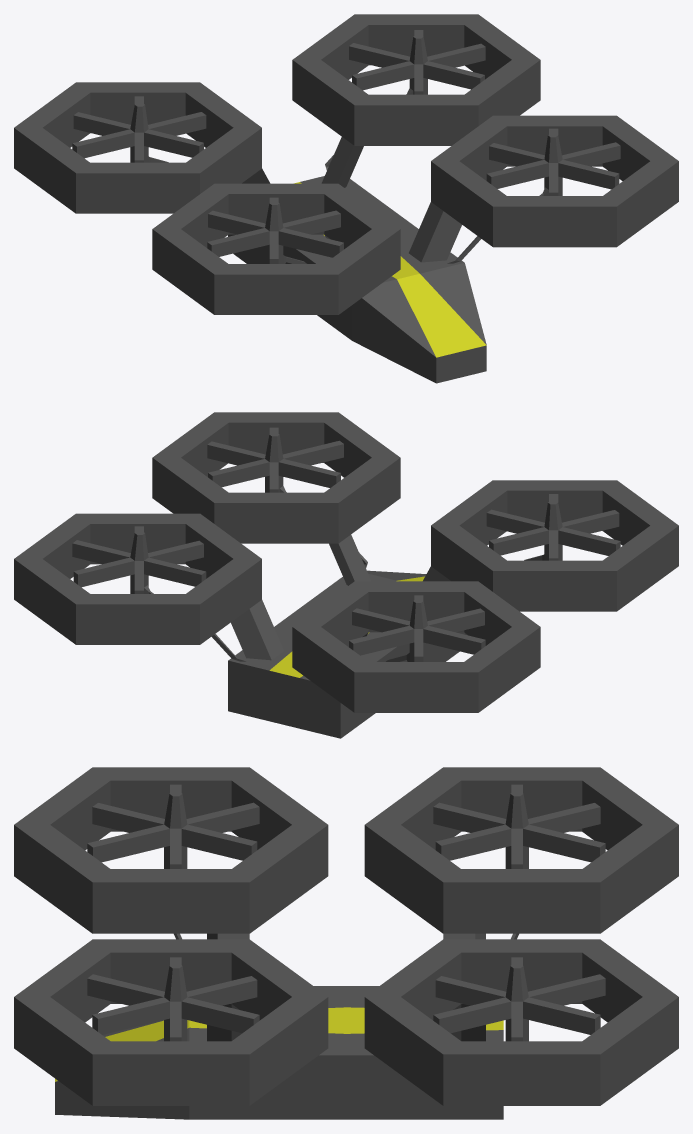
File: drone.fbx
3 views of the same model, one above another, from view 1: azimuth 30°, elevation 25°; view 2: azimuth 150°, elevation 25°; view 3: azimuth 270°, elevation 25° (orthographic). The views are drawn at different scales.
Visible parts, largest first — view 1: Drone, Helix1, Helix4, Helix2, Helix3; view 2: Drone, Helix3, Helix2, Helix4, Helix1; view 3: Drone, Helix4, Helix2, Helix3, Helix1.
Boxes of the visible parts, x1,y1,x2,y2 form: Drone: (14, 14, 678, 383); Helix1: (207, 197, 343, 263); Helix4: (349, 30, 485, 94); Helix2: (486, 128, 620, 195); Helix3: (72, 96, 206, 162); Drone: (14, 412, 678, 738); Helix3: (349, 595, 485, 661); Helix2: (207, 427, 343, 492); Helix4: (72, 526, 206, 593); Helix1: (486, 494, 620, 560); Drone: (14, 767, 678, 1119); Helix4: (433, 957, 605, 1041); Helix2: (87, 957, 259, 1041); Helix3: (433, 784, 605, 868); Helix1: (87, 784, 259, 868).
Bounding box in the file's own units: 432 × 154 × 423.
